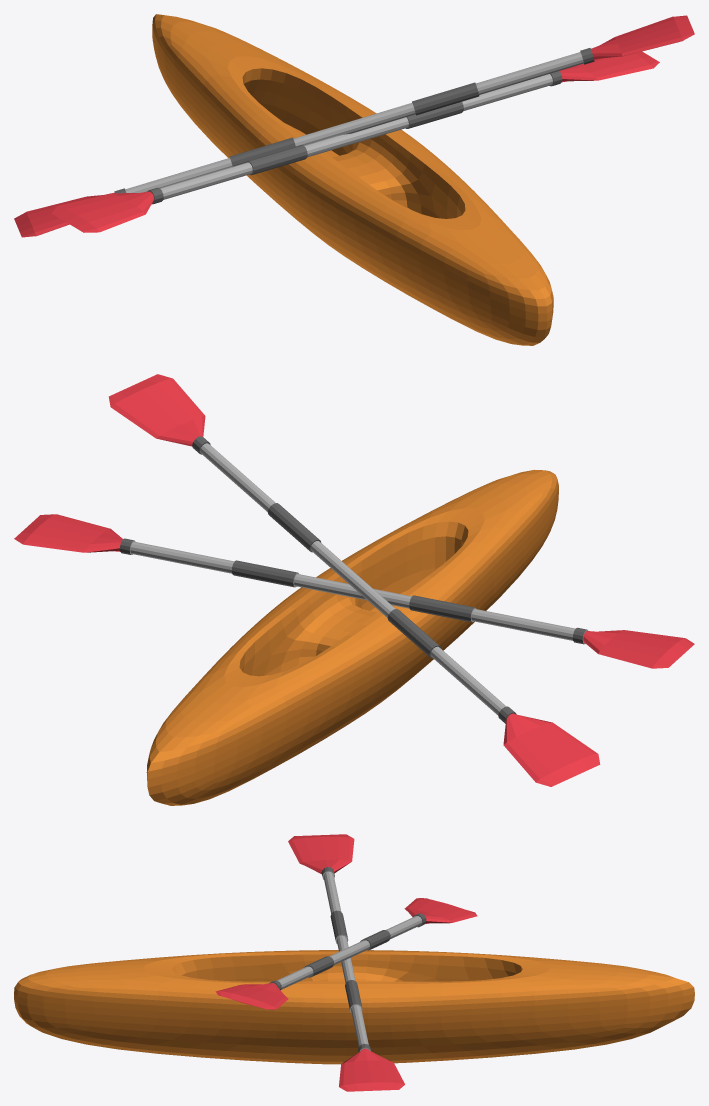
The model's file is kajak.fbx.
3 views of the same model, one above another, from view 1: azimuth 30°, elevation 25°; view 2: azimuth 150°, elevation 25°; view 3: azimuth 270°, elevation 25° (orthographic). The views are drawn at different scales.
Parts seen in each view (by area): view 1: Cube, Cylinder, Cylinder.001; view 2: Cube, Cylinder.001, Cylinder; view 3: Cube, Cylinder, Cylinder.001.
Part boxes in pixels (x1,y1,x2,y2): Cube: [152, 14, 553, 345]; Cylinder: [49, 51, 659, 232]; Cylinder.001: [14, 15, 694, 237]; Cube: [146, 469, 558, 805]; Cylinder.001: [108, 374, 600, 786]; Cylinder: [14, 514, 694, 668]; Cube: [14, 950, 694, 1064]; Cylinder: [288, 834, 404, 1091]; Cylinder.001: [215, 898, 477, 1009].
Size of the model in its own units: 2091 by 677 by 2336.
